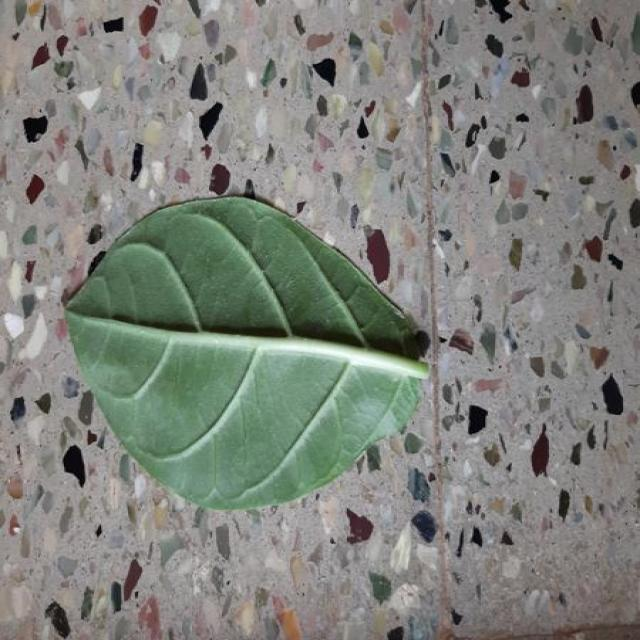ekka: (67, 196, 428, 509)
